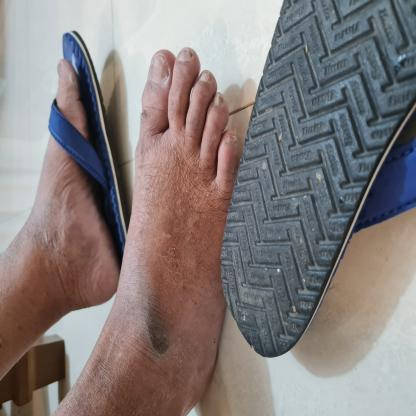leg: (49, 36, 247, 416), (0, 26, 126, 394)
